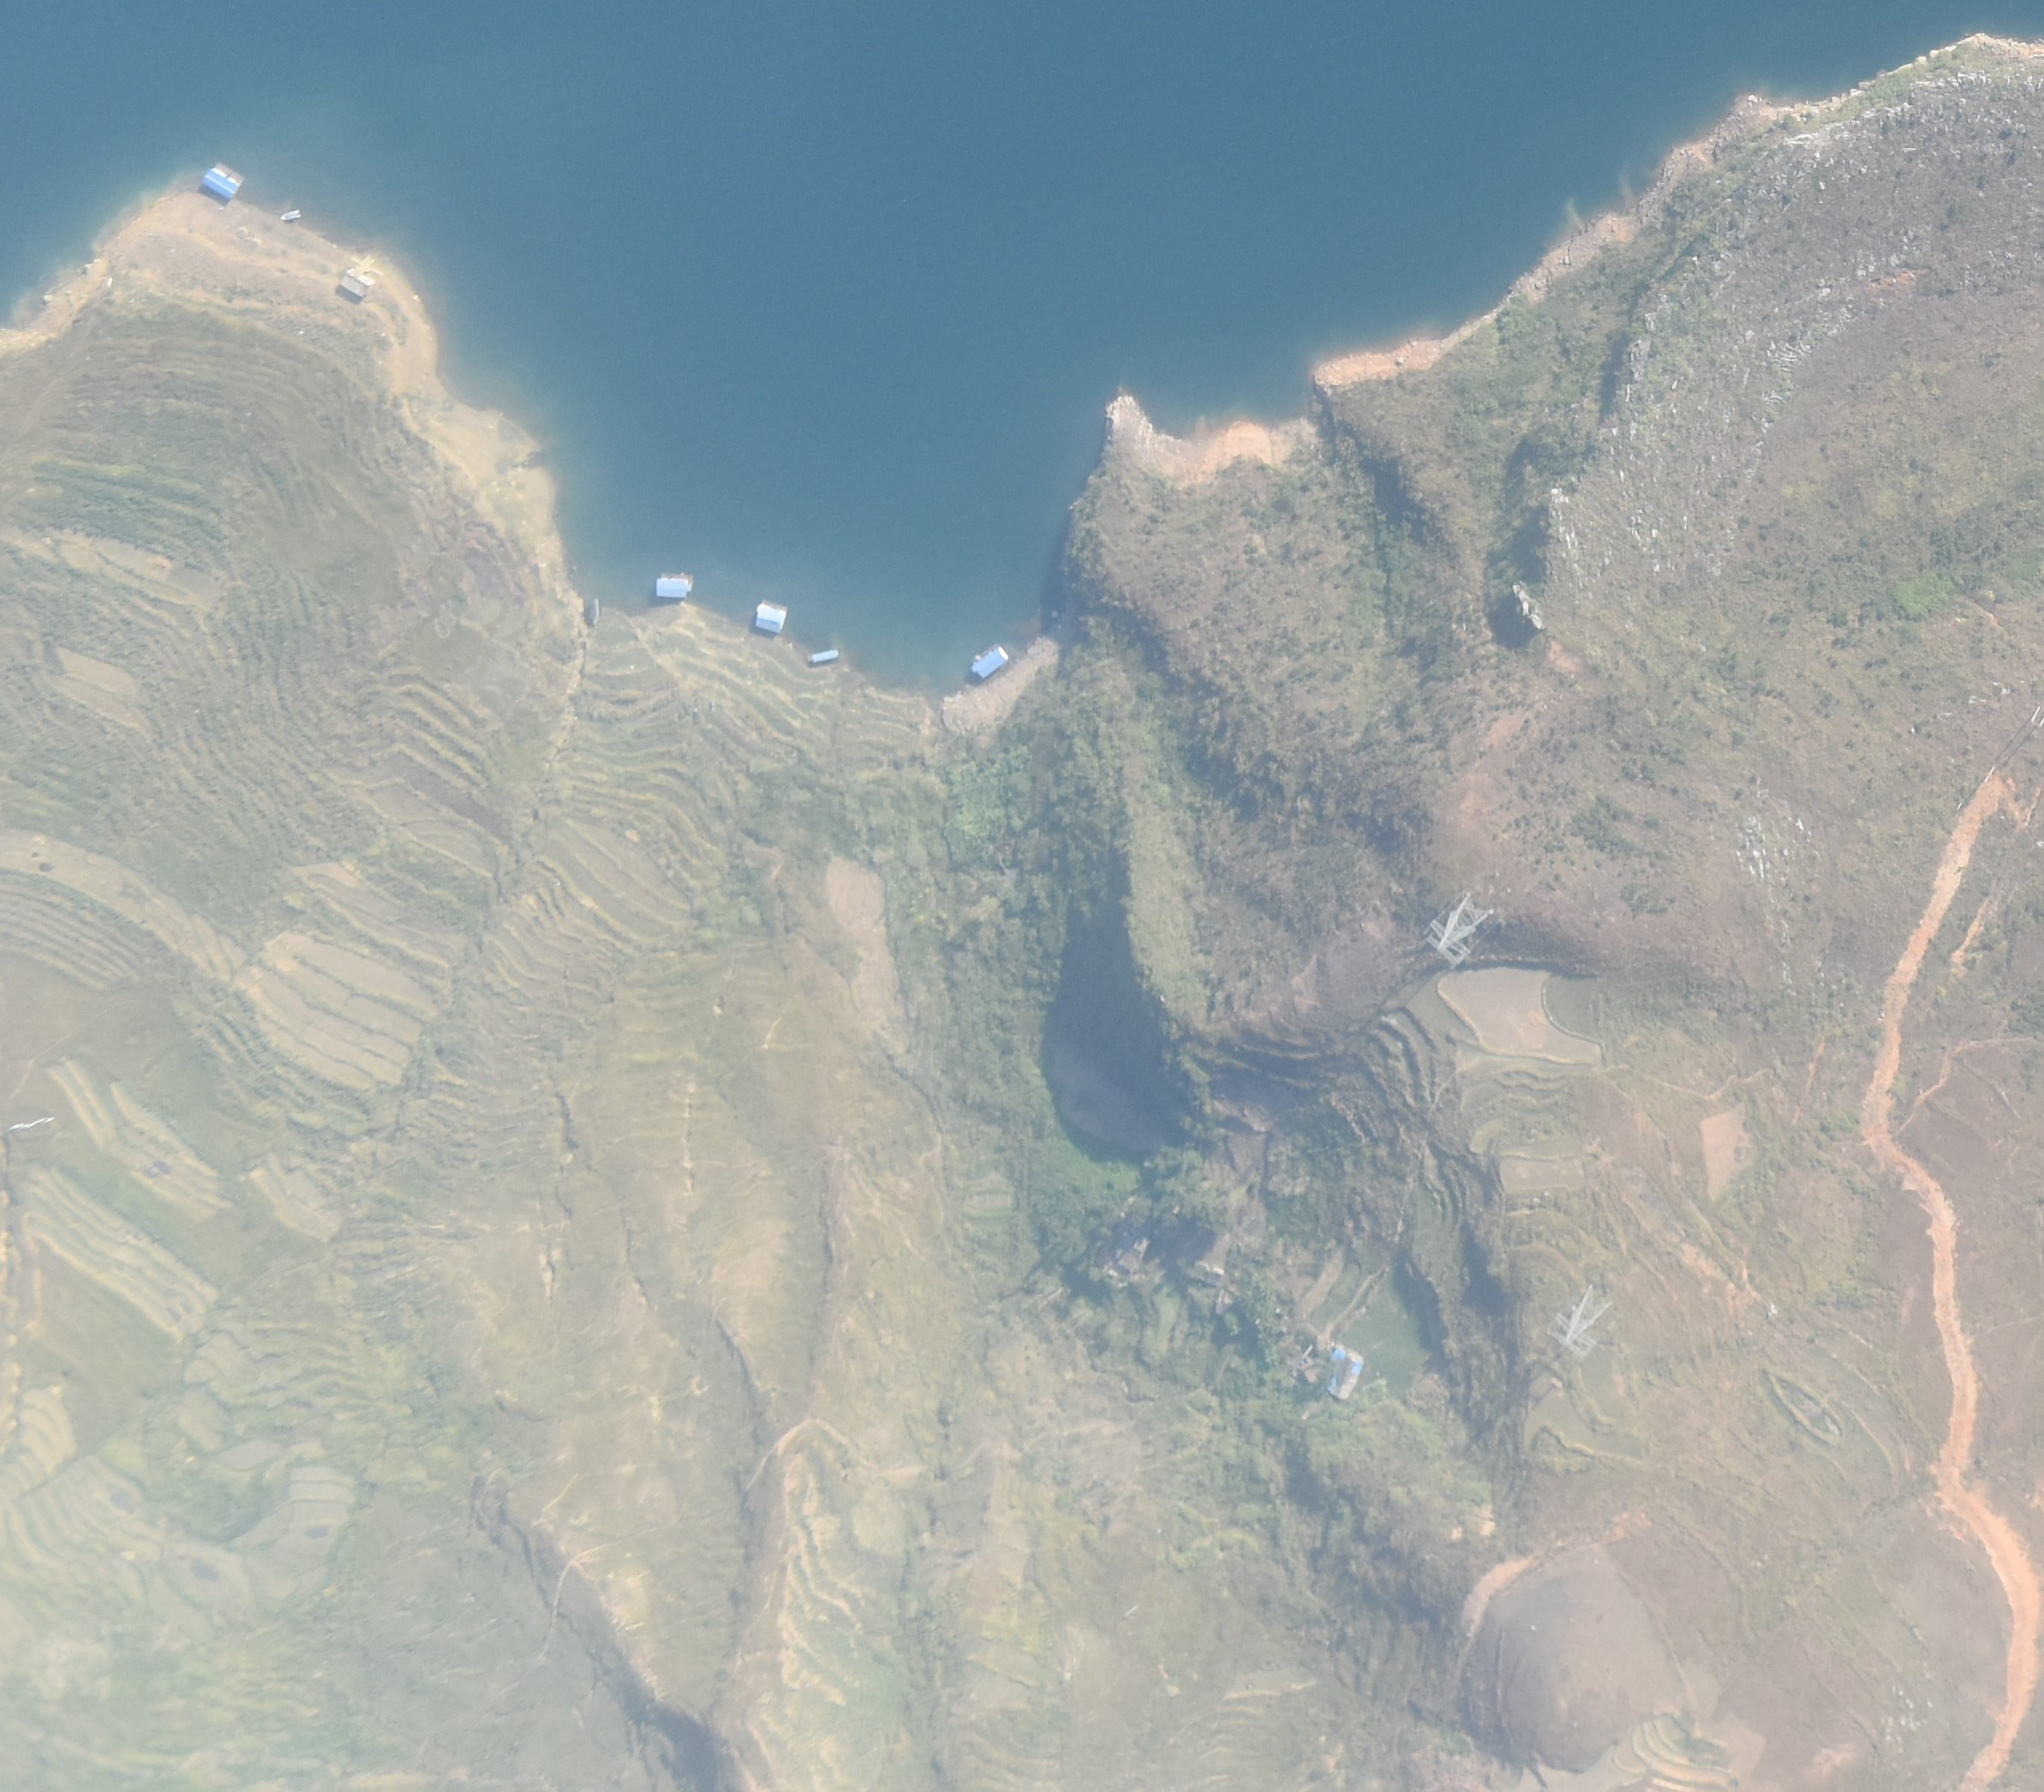cable-tower: (1422, 886, 1496, 968), (1550, 1281, 1611, 1359)
prefabricated-house: (1323, 1344, 1364, 1403), (203, 165, 238, 202), (970, 648, 1008, 680), (756, 598, 787, 634), (654, 574, 690, 598), (341, 266, 370, 295), (812, 648, 840, 660)
ship: (587, 596, 600, 624), (282, 209, 299, 222)
